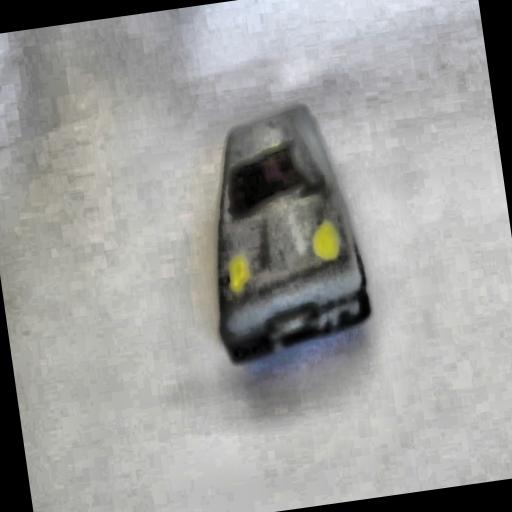normal_car: (216, 108, 368, 362)
